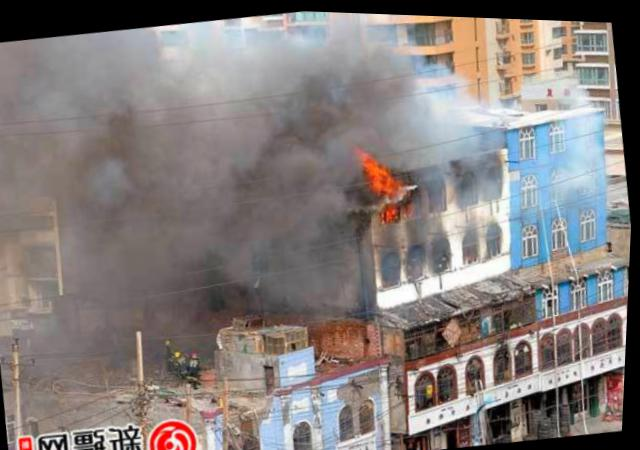fire: (371, 161, 405, 191), (362, 150, 382, 169), (386, 200, 404, 220)
